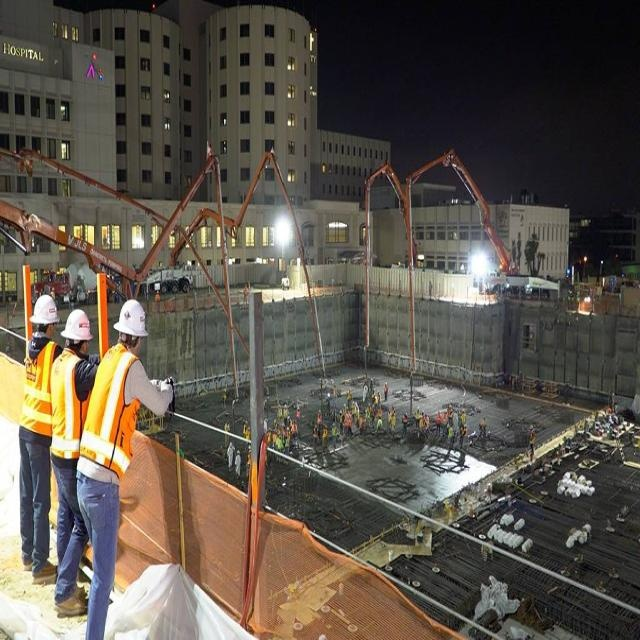Con_Casco: (112, 300, 149, 344), (28, 295, 61, 333), (62, 310, 94, 347)
Con_Chaleco: (85, 347, 139, 471), (51, 354, 87, 461), (21, 342, 53, 438)
